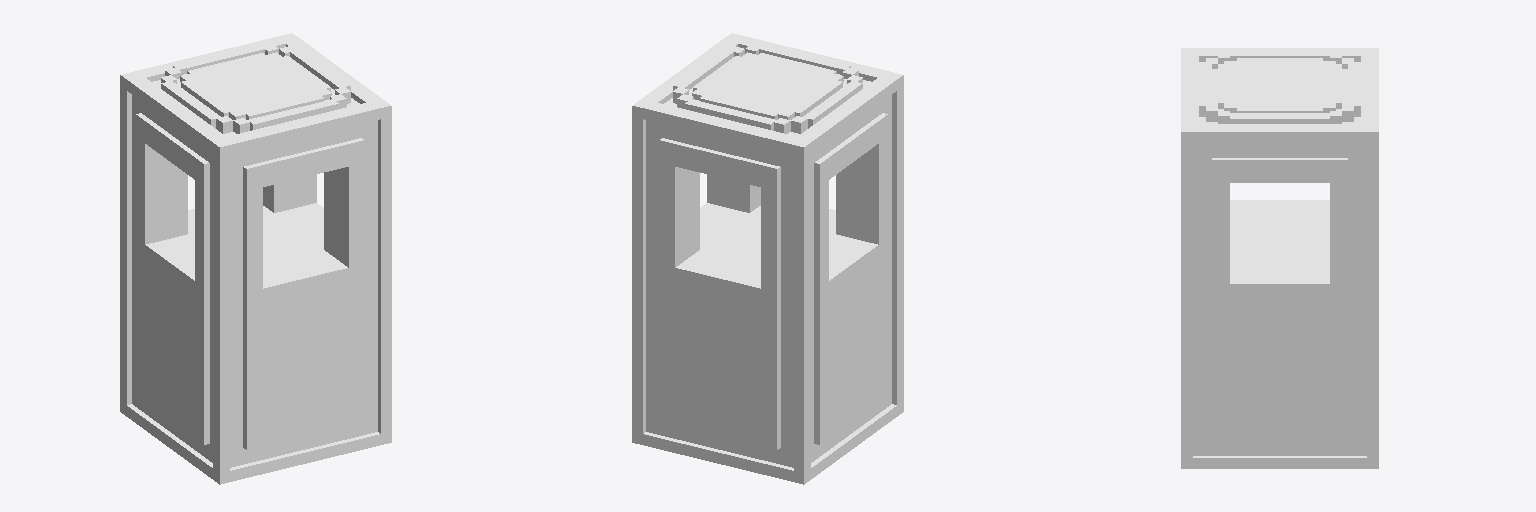
Rendered from StandingButtonActivated.obj.
3 renders of one model, left to right at view 1: azimuth 30°, elevation 25°; view 2: azimuth 150°, elevation 25°; view 3: azimuth 270°, elevation 25°, orthographic.
Parts seen in each view (by area): view 1: object 1; view 2: object 1; view 3: object 1.
Part boxes in pixels (x1,y1,x2,y2): object 1: (120,33,391,484); object 1: (632,33,903,484); object 1: (1181,48,1378,468).
Size of the model in its own units: 3.2 by 6.1 by 3.2.